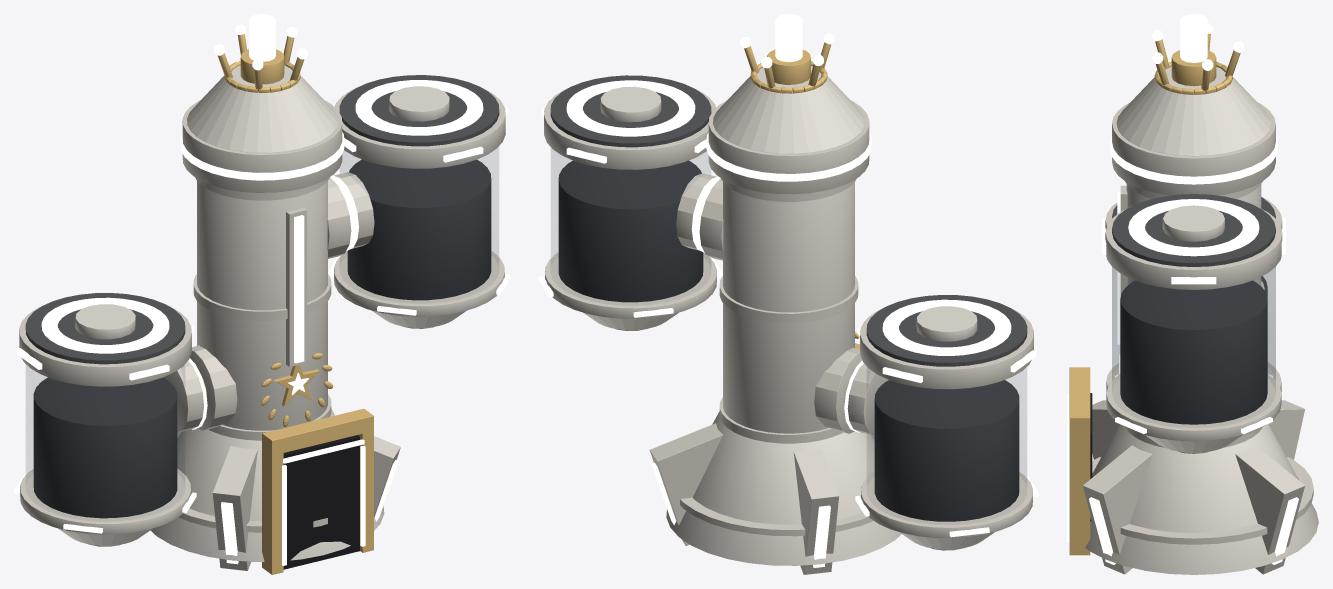
Rendered from Vat_Graduate_T2.glb.
The picture shows the model from 3 angles, left to right: view 1: azimuth 30°, elevation 25°; view 2: azimuth 150°, elevation 25°; view 3: azimuth 270°, elevation 25°; orthographic projection. The views are drawn at different scales.
Visible parts, largest first — view 1: Vat_Graduate_T2; view 2: Vat_Graduate_T2; view 3: Vat_Graduate_T2.
Part boxes in pixels (x1,y1,x2,y2): Vat_Graduate_T2: [14, 14, 510, 574]; Vat_Graduate_T2: [539, 14, 1038, 574]; Vat_Graduate_T2: [1067, 14, 1318, 574].
Bounding box in the file's own units: 6.43 × 6.61 × 2.92.
